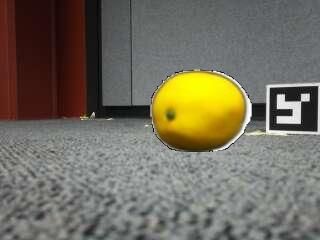lemon: (153, 71, 246, 150)
